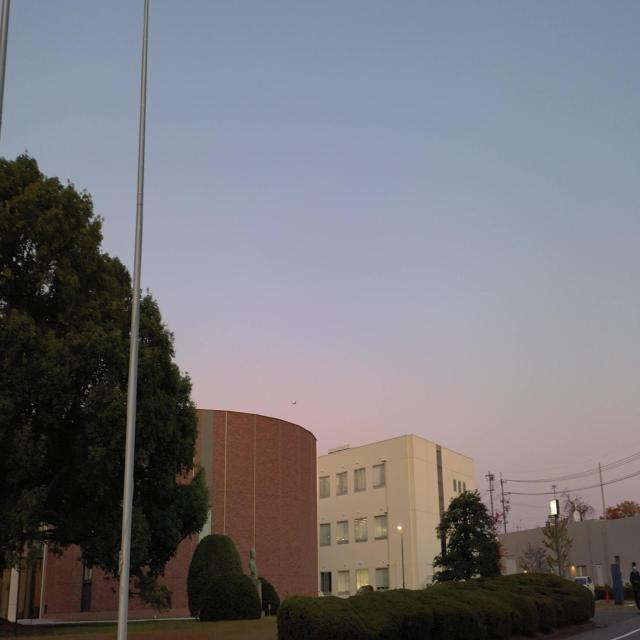Birds: (291, 398, 299, 406)
